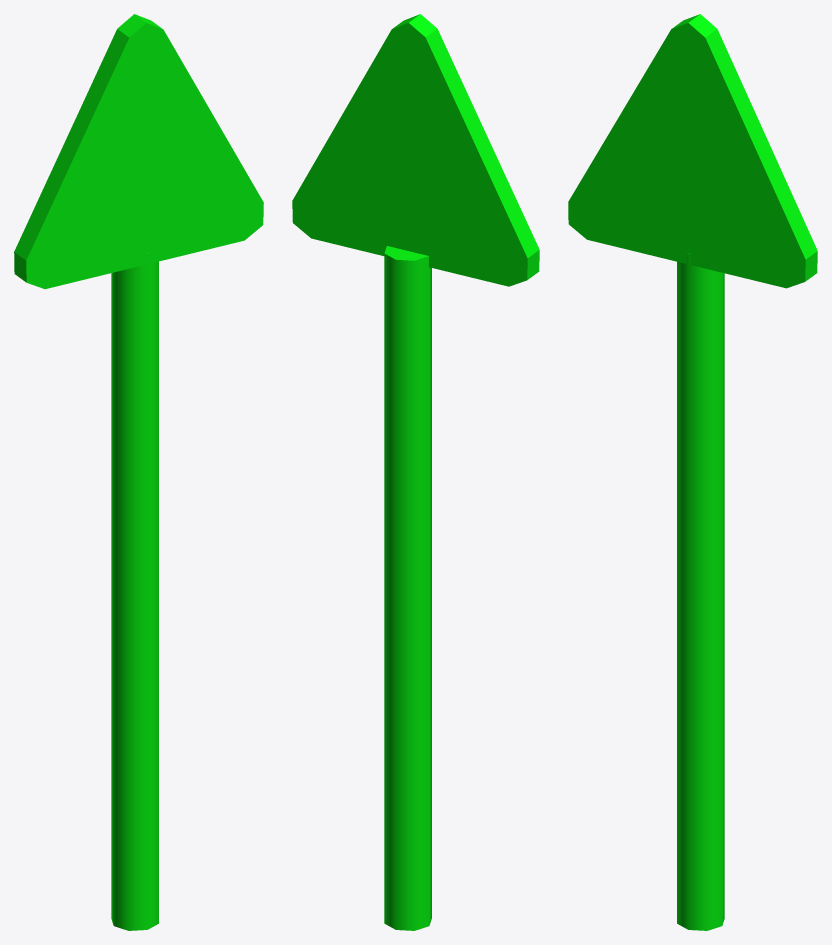
File: Parts_Connect_Sign.fbx
3 renders of one model, left to right at view 1: azimuth 30°, elevation 25°; view 2: azimuth 150°, elevation 25°; view 3: azimuth 330°, elevation 25°, orthographic.
Parts seen in each view (by area): view 1: Cylinder017; view 2: Cylinder017; view 3: Cylinder017.
Part boxes in pixels (x1,y1,x2,y2): Cylinder017: (14,14,263,930); Cylinder017: (292,14,539,930); Cylinder017: (568,14,817,930).
Size of the model in its own units: 14.02 by 51.12 by 2.54.
